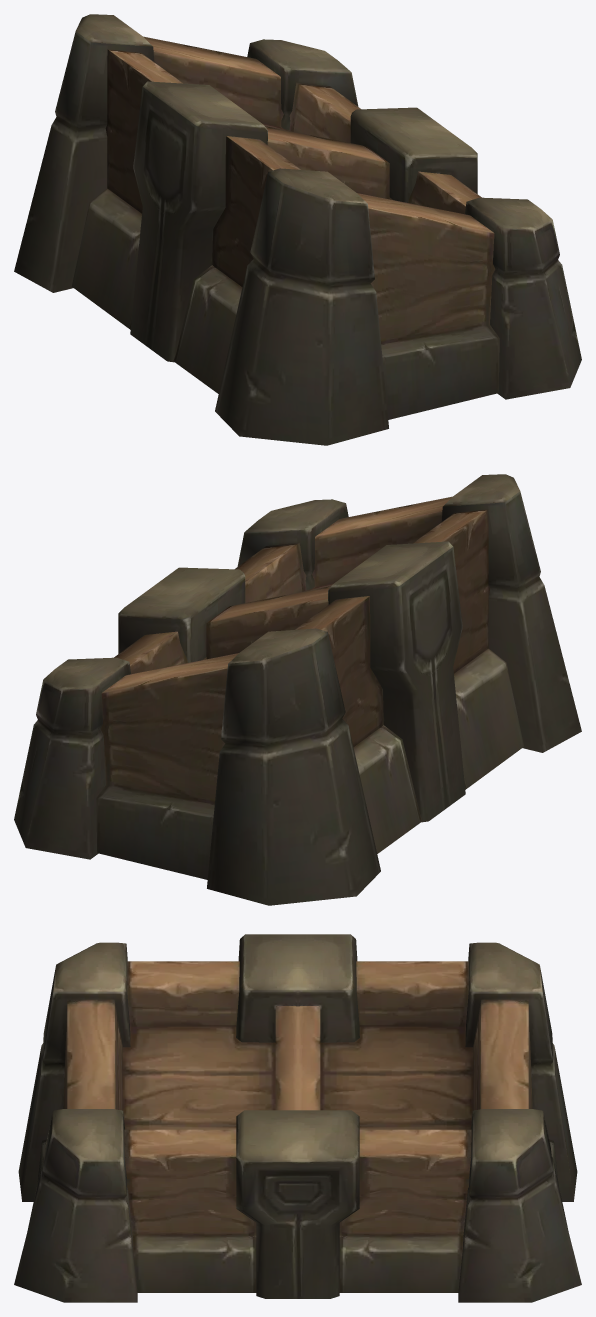
The picture shows the model from 3 angles, top to bottom: view 1: azimuth 30°, elevation 25°; view 2: azimuth 150°, elevation 25°; view 3: azimuth 270°, elevation 25°; orthographic projection. The views are drawn at different scales.
Bounding box in the file's own units: 2.66 × 1.83 × 4.03.
Materials: 1 (1 with a texture image).
